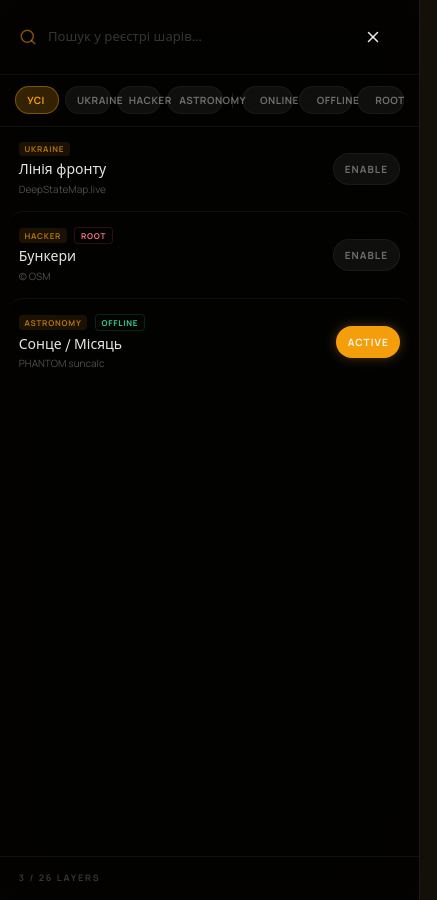
Test: LayerLibraryPanel › filters by offline mode
Expected: the list item with test id "layer-row-frontline" is shown, [8,126,412,211]
Click the button with test id "filter-offline" at (325, 100), box [299,86,352,114]
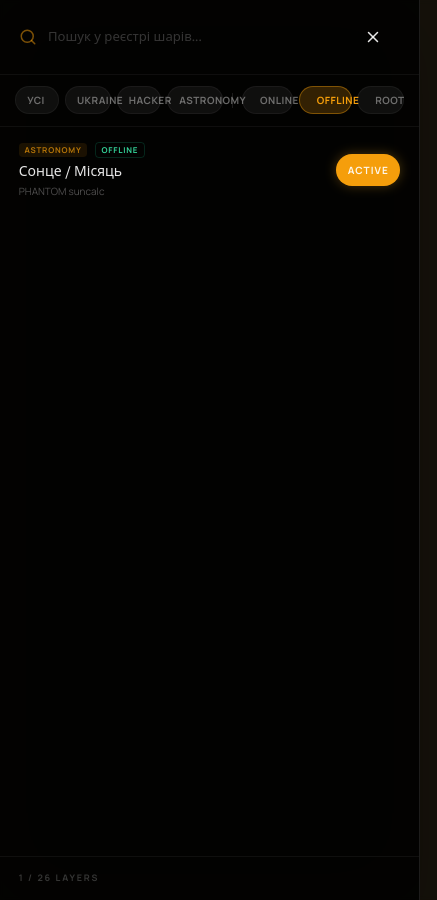
Expected: the list item with test id "layer-row-sun_moon" is shown, [8,126,412,213]
Expected: the list item with test id "layer-row-frontline" is gone
